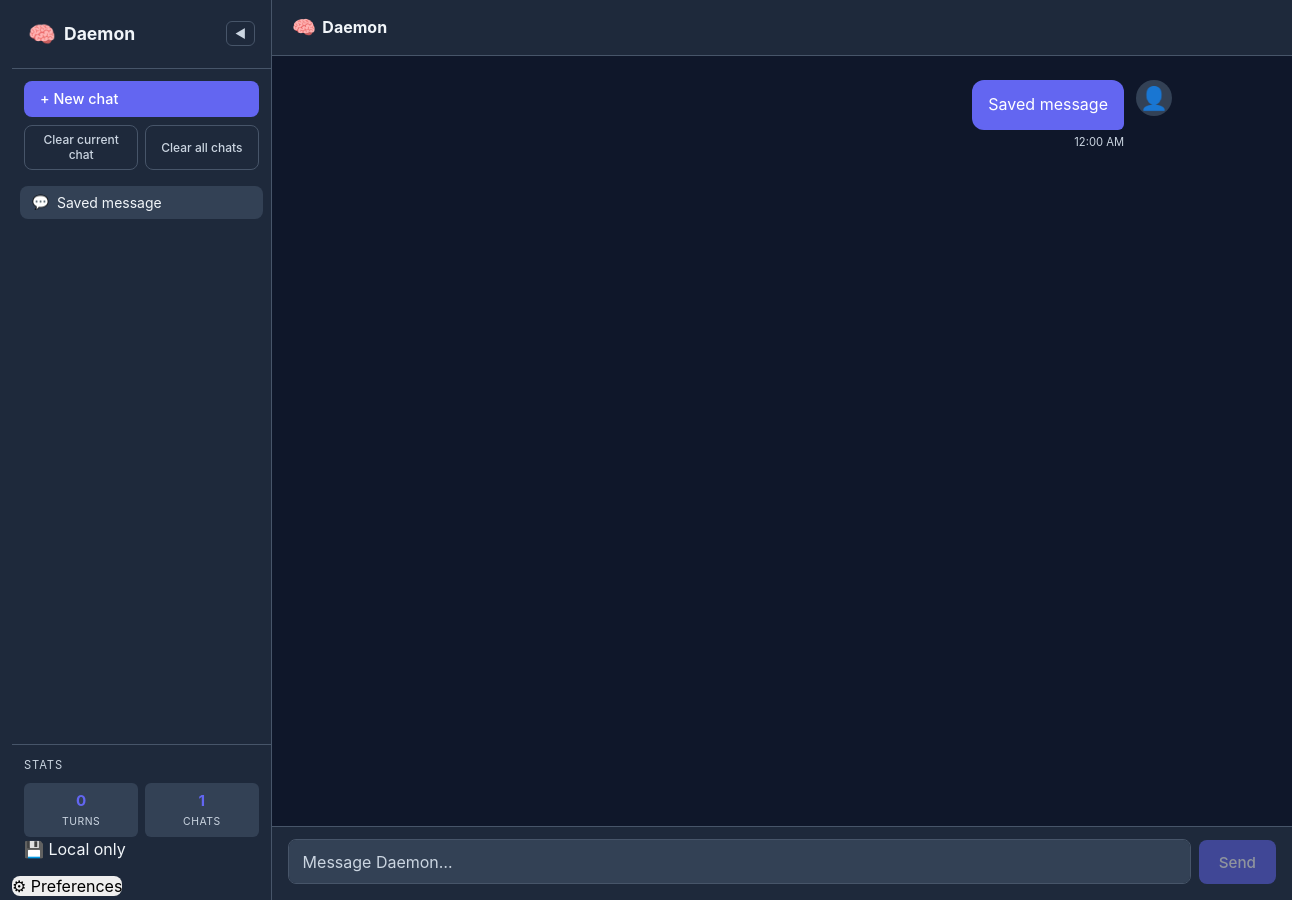
Scenario: DaemonInterface › reloading with saved conversations restores the active conversation; next send stays in that conversation
Type "follow-up message" into the text box with placeholder "Message Daemon…" at (739, 862), box x1=288 y1=839 x2=1191 y2=884
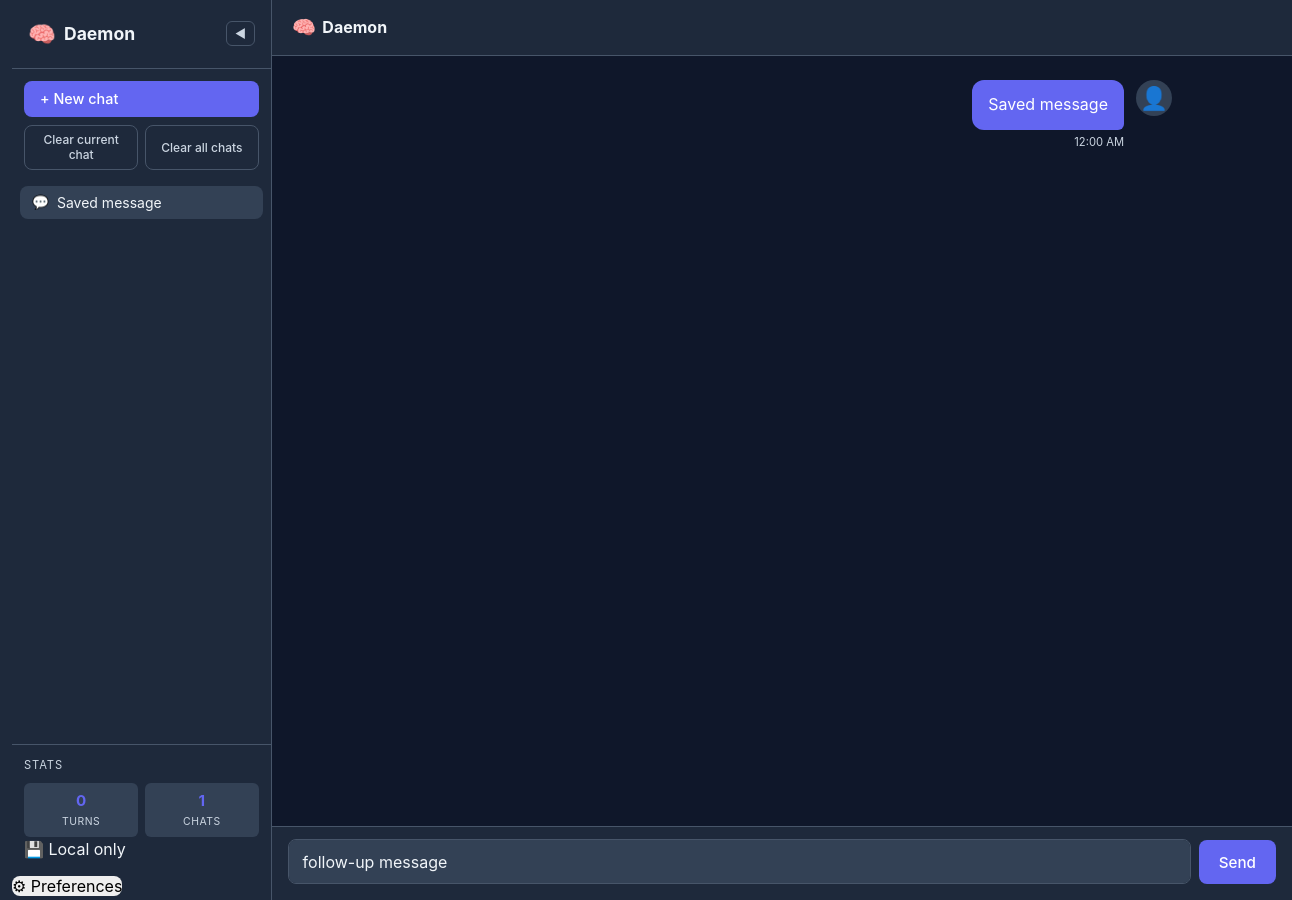
Click the button with aria-label "Send message" at (1237, 862), box x1=1199 y1=840 x2=1276 y2=884
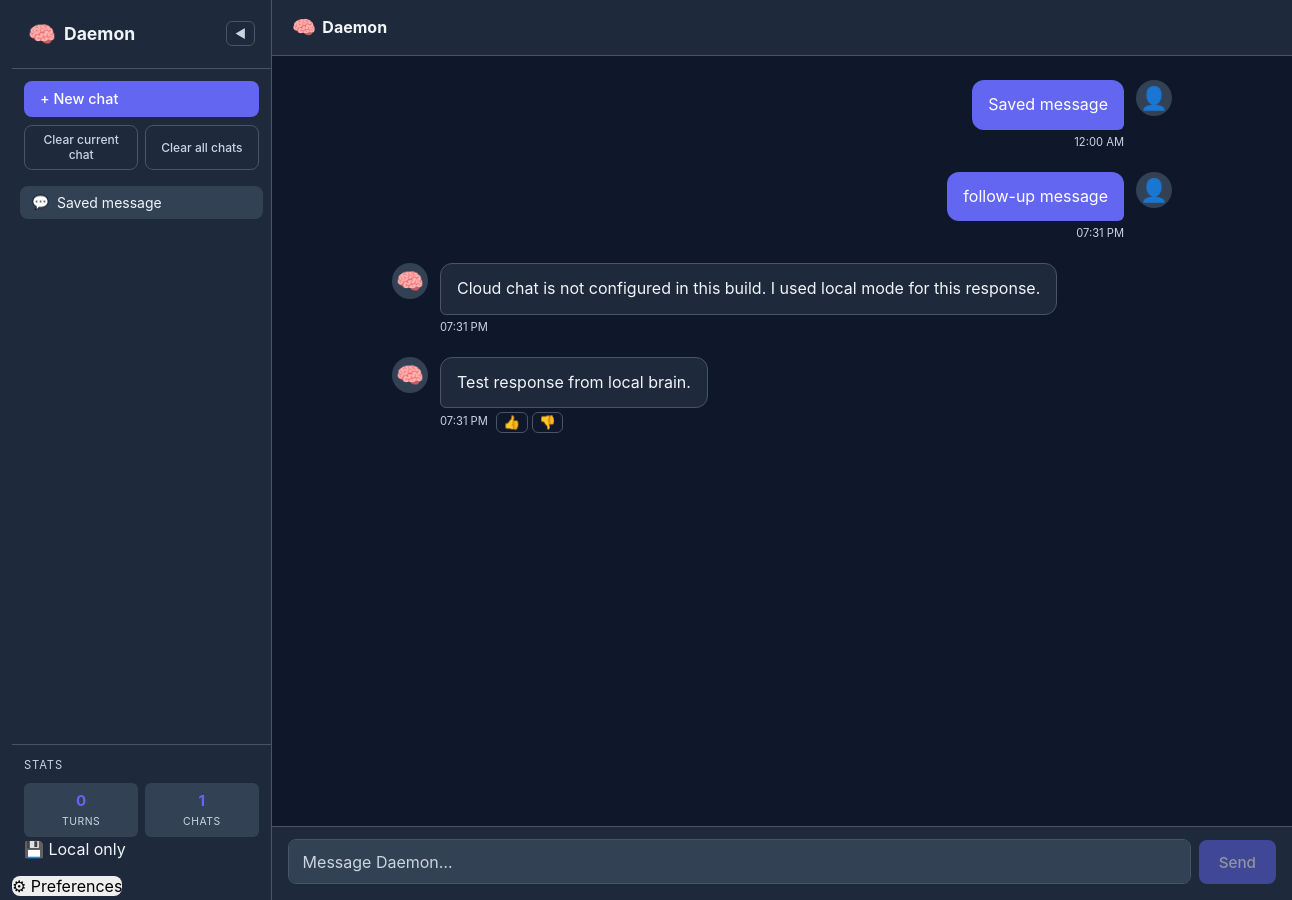
Expected: the text "follow-up message" is shown, x1=963 y1=184 x2=1108 y2=209
